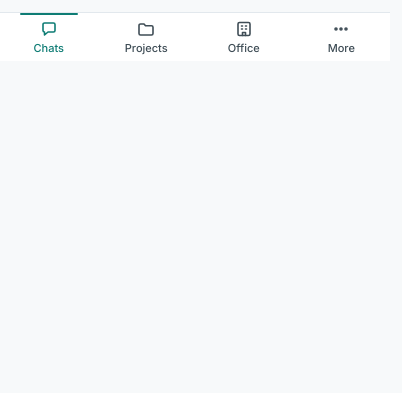
BottomTabs › keeps Lanes, Organization, Routines and Devices under More
Click the button "More": (341, 37) [292,13,390,61]
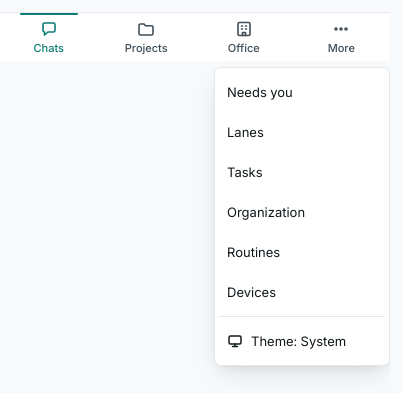
Now the menu item "Lanes" is shown, box [227,124,264,140]
Now the menu item "Organization" is shown, box [227,204,305,220]
Now the menu item "Routines" is shown, box [227,244,280,260]
